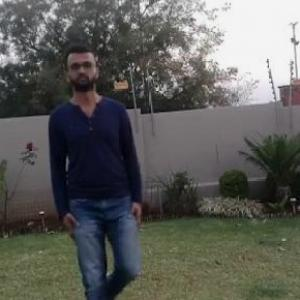follow: (50, 49, 142, 299)
